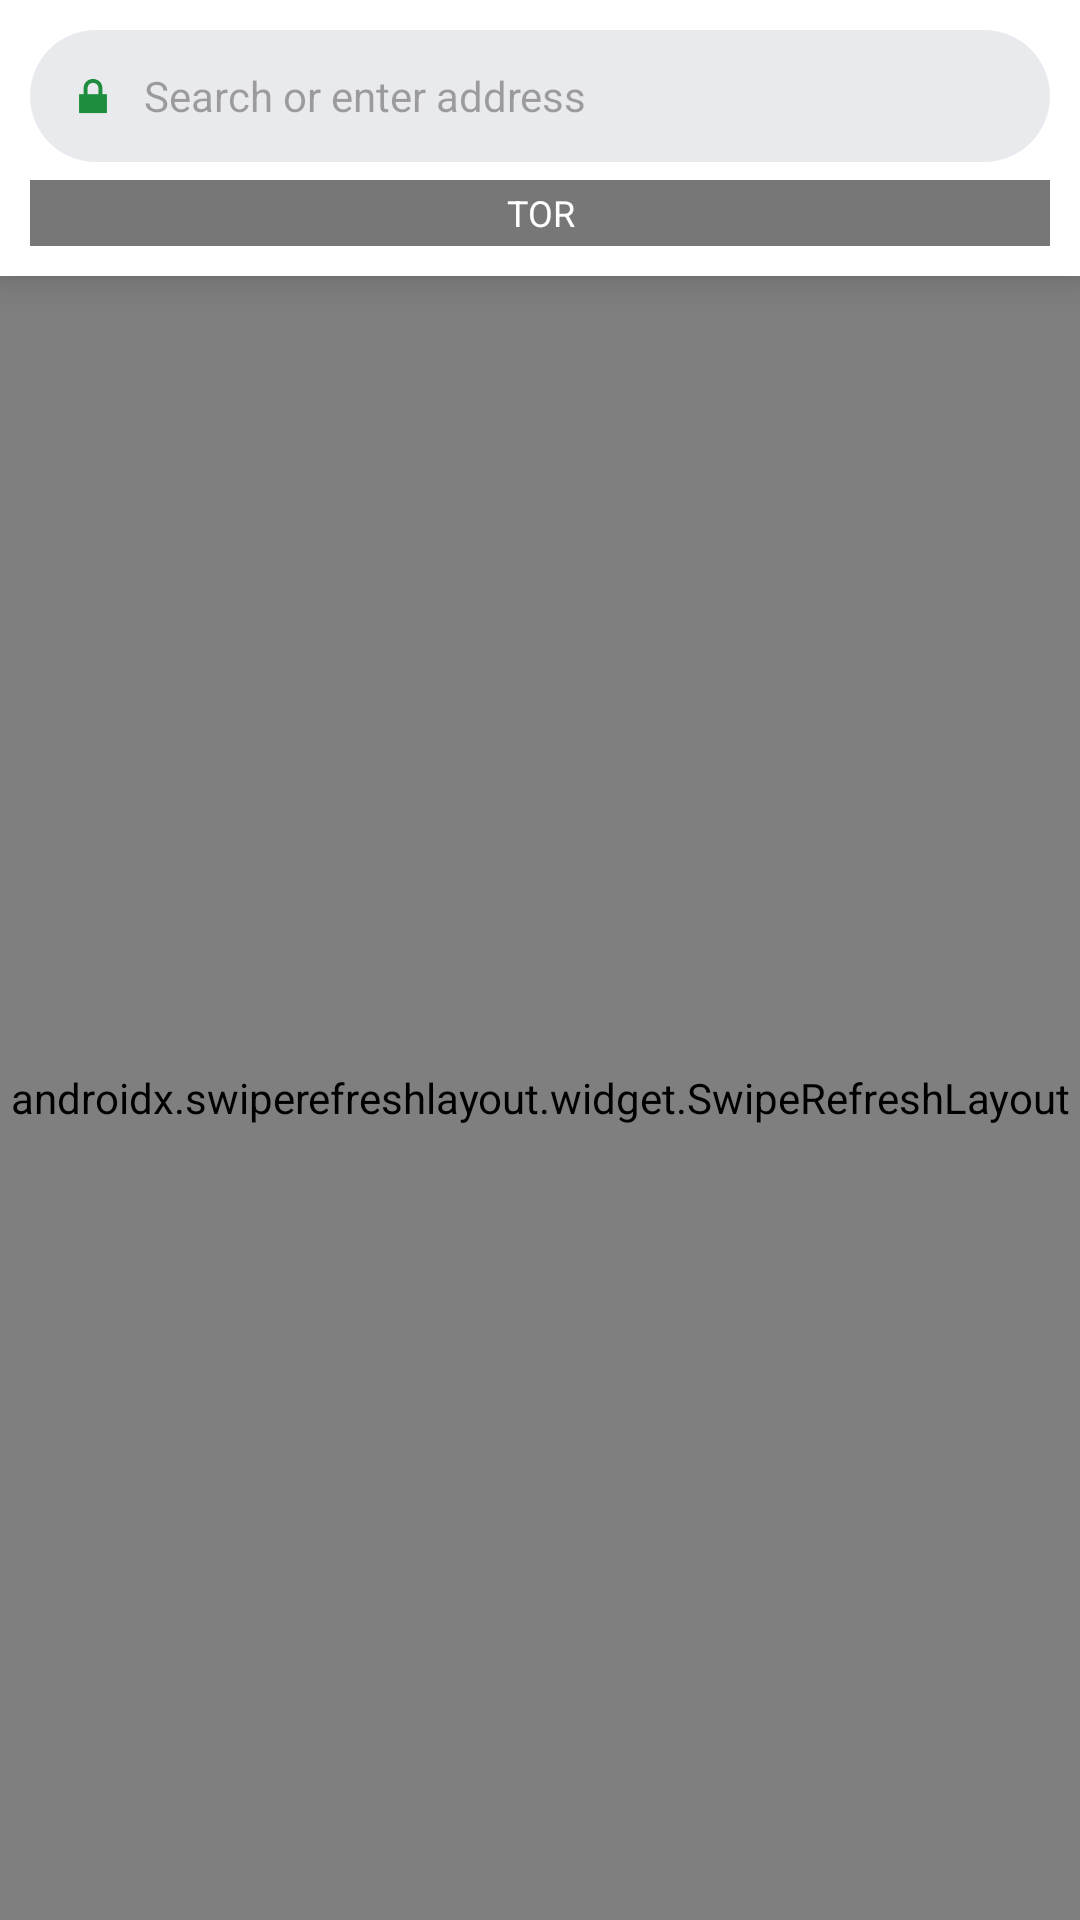

Icons on this 1080 × 1920 Android screen, each with the point to tap as (x=x, y=y):
lock: (x=93, y=96)
